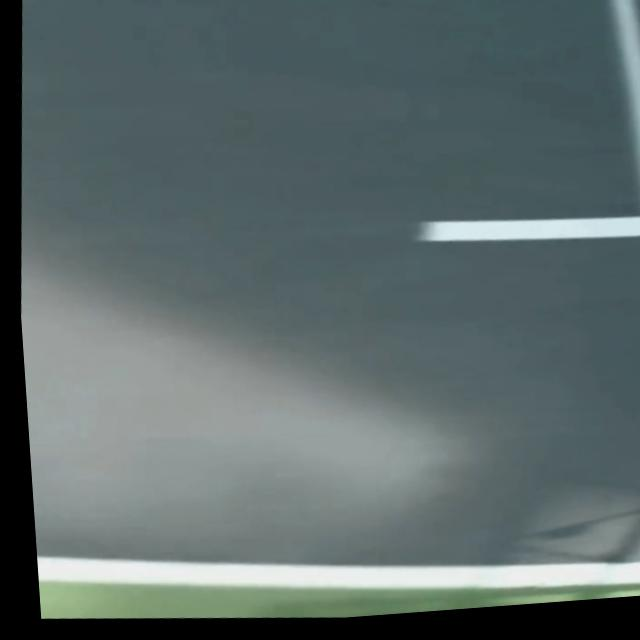center: (418, 214, 640, 238)
right: (37, 555, 640, 587)
